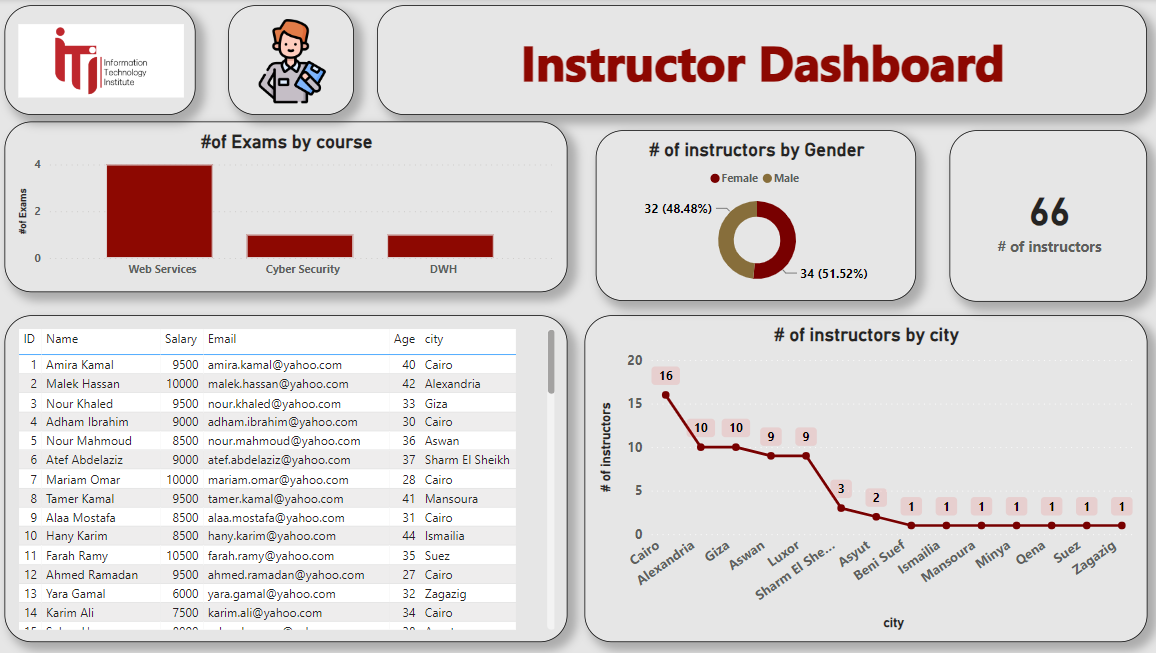

The page's visual inventory and layout, read from the dashboard file:
{"tool":"powerbi","page":{"name":"Instructors","canvas":[1280,720],"ordinal":3},"visuals":[{"type":"tableEx","title":"Instructor Information","fields":{"Values":["dim_instructor.ins_id_sk","dim_instructor.ins_name","Sum(dim_instructor.salary)","dim_instructor.ins_email","Sum(dim_instructor.ins_age)","dim_instructor.city"]},"box":[8.8,348,620,359.7],"z":0},{"type":"shape","title":"s","box":[418.5,6.9,848,121.1],"z":1000},{"type":"lineChart","fields":{"Y":["dim_instructor.# of instructors"],"Category":["dim_instructor.city"]},"box":[646.3,348,620,359.7],"z":2000},{"type":"card","fields":{"Values":["dim_instructor.# of instructors"]},"box":[1049,144.5,217.5,188.6],"z":3000},{"type":"donutChart","title":"# of instructors by Gender","fields":{"Y":["dim_instructor.# of instructors"],"Category":["dim_instructor.ins_gender"]},"box":[660,144.3,352.9,188.1],"z":4000},{"type":"columnChart","title":"#of Exams by course","fields":{"Y":["dim_courses.#of Exams"],"Category":["dim_courses.course_name"]},"box":[8.3,134.9,620.9,198.2],"z":5000},{"type":"image","box":[8.8,6.8,210.6,120.9],"z":6000},{"type":"image","box":[254.4,6.8,138.4,120.9],"z":7000}]}

Visuals, with their boxes in screenshot pixels (x1, y1, x2, y2), scaled from the page's 1280x720 canvas onto the 1156x653 screenshot:
"Instructor Information" tableEx: box(8, 316, 568, 642)
"s" shape: box(378, 6, 1144, 116)
lineChart - dim_instructor.# of instructors x dim_instructor.city: box(584, 316, 1144, 642)
card - dim_instructor.# of instructors: box(947, 131, 1144, 302)
"# of instructors by Gender" donutChart: box(596, 131, 915, 301)
"#of Exams by course" columnChart: box(7, 122, 568, 302)
image: box(8, 6, 198, 116)
image: box(230, 6, 355, 116)
